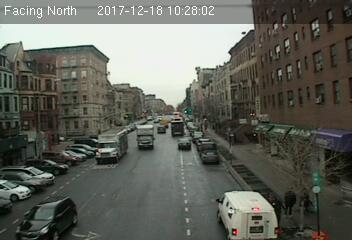car: (14, 195, 78, 240), (200, 150, 218, 164), (176, 138, 192, 151)
truck: (216, 191, 277, 239), (97, 127, 128, 162), (136, 124, 155, 149)
ups: (170, 121, 185, 137)
